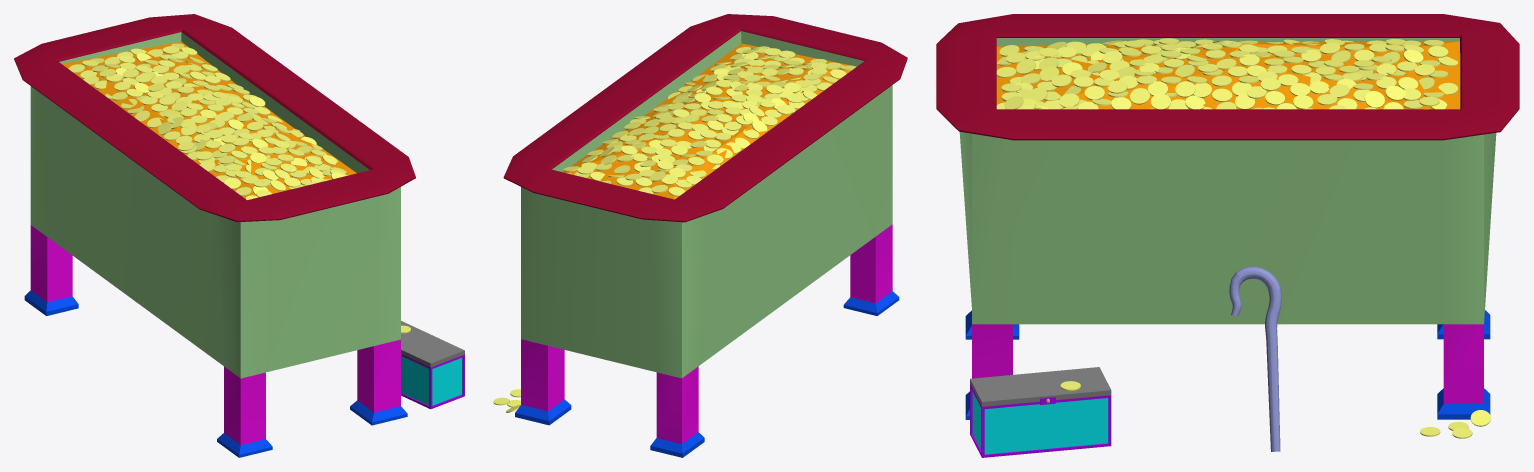
File: Treasure_Final.fbx
3 views of the same model, side by side, from view 1: azimuth 30°, elevation 25°; view 2: azimuth 150°, elevation 25°; view 3: azimuth 270°, elevation 25° (orthographic). The views are drawn at different scales.
Parts seen in each view (by area): view 1: Trunk, TreasureMesh, pCube1; view 2: Trunk, TreasureMesh; view 3: Trunk, pCube1, TreasureMesh, Crook.
Boxes of the visible parts, x1=… form: Trunk: x1=14, y1=14, x2=415, y2=457; TreasureMesh: x1=62, y1=41, x2=356, y2=198; pCube1: x1=401, y1=321, x2=464, y2=409; Trunk: x1=503, y1=14, x2=907, y2=457; TreasureMesh: x1=562, y1=43, x2=856, y2=199; Trunk: x1=936, y1=14, x2=1519, y2=419; pCube1: x1=970, y1=367, x2=1111, y2=457; TreasureMesh: x1=996, y1=41, x2=1460, y2=109; Crook: x1=1229, y1=266, x2=1281, y2=451.
Size of the model in its own units: 30.93 by 29.35 by 50.61.
